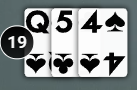4: (78, 9, 104, 35)
5: (54, 9, 75, 34)
q: (25, 9, 51, 36)
